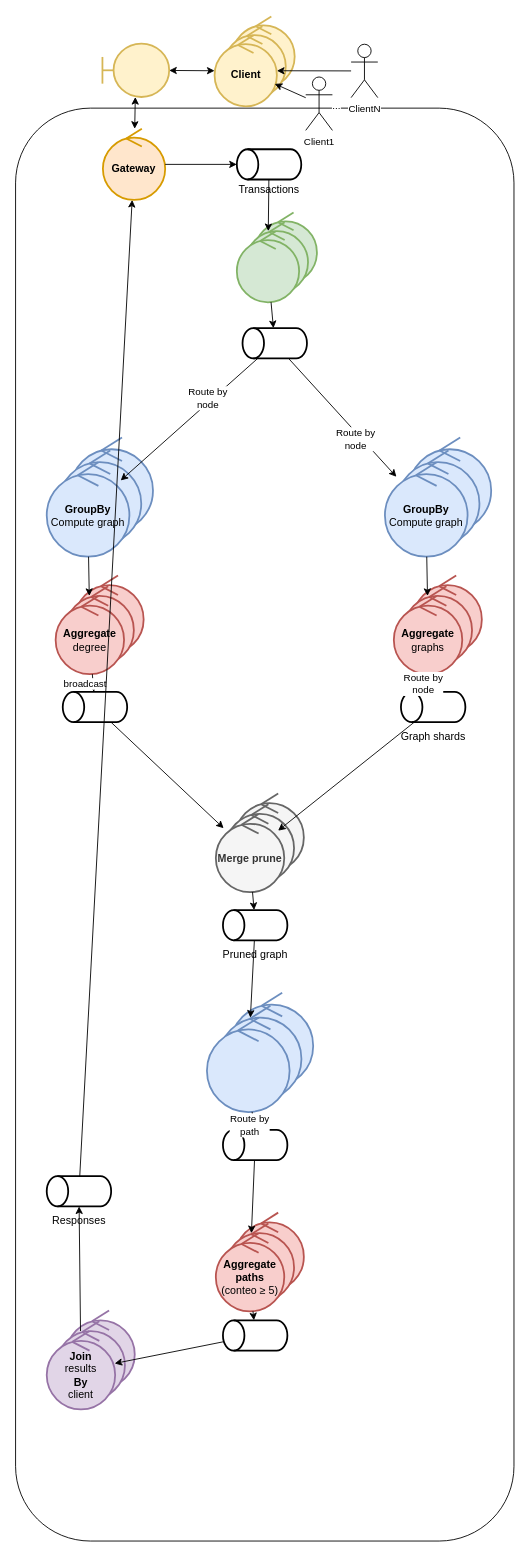
This 530x1557 diagram has some shape labels left out. Here are the shapes that lost their labels. From the top down, the centre of each, then its label:
point 135,69: Socket TCP/IP
point 267,266: Filter
point 274,343: Filtered by USD and period A
point 94,707: High-degree nodes
point 248,1064: Count paths
point 255,1145: Partial path counts
point 255,1335: Pairs with count ≥ 5
